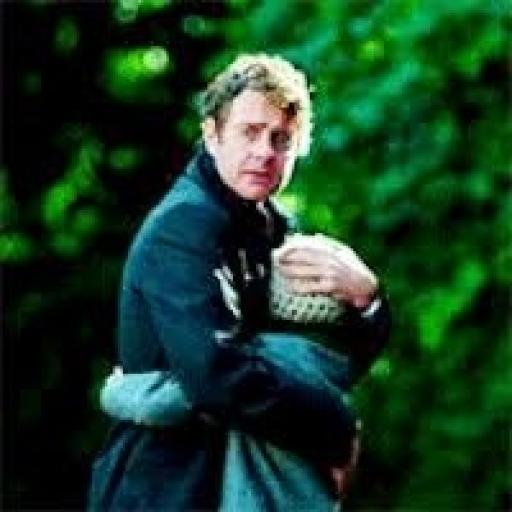hugging: (77, 48, 397, 510)
